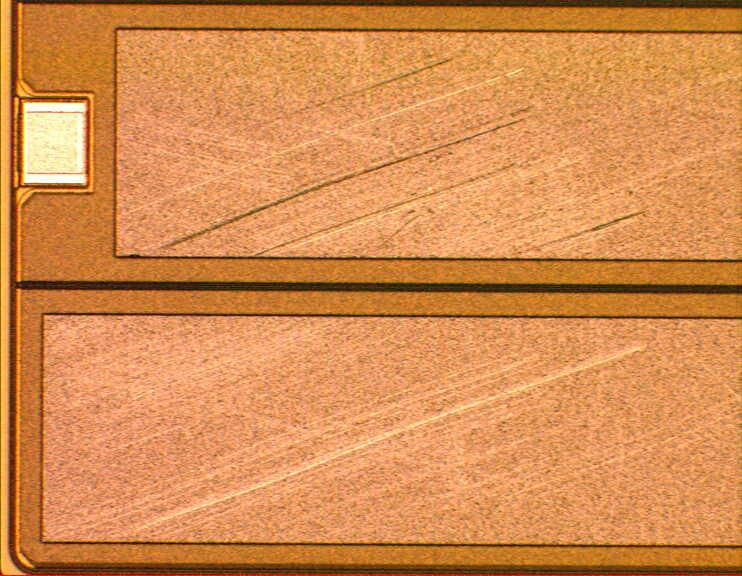SCRATCH: (30, 51, 742, 551)
